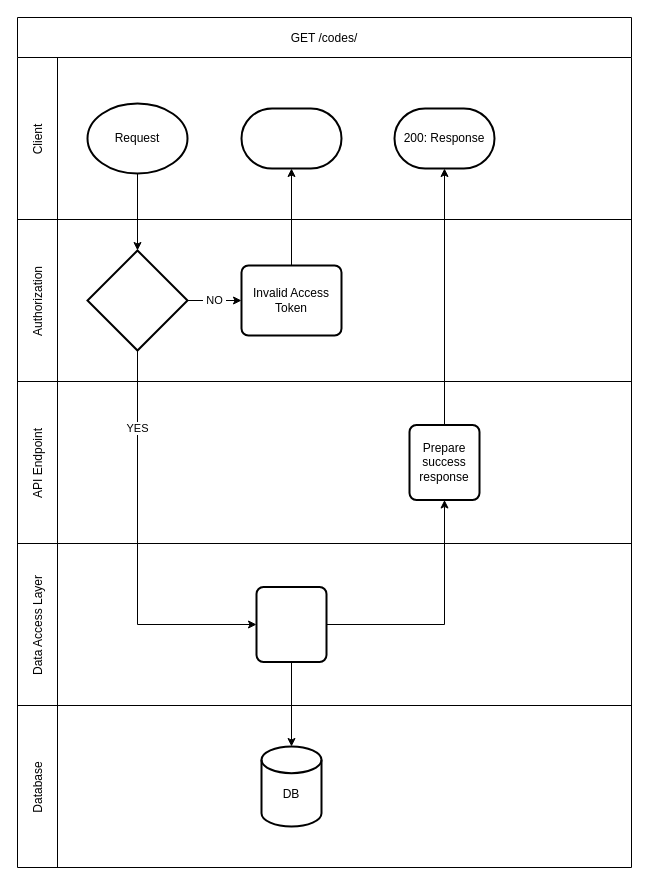
Some shapes in this 649 by 885 pixel diagram are drawn without their labels. The shapes that lost their labels are listed below. From the top down, each one's box as (x1, y1, x2, y2) in pixels, then its label:
(240, 107, 342, 169): 401: Unauthorised
(86, 249, 188, 351): Authorized?
(255, 586, 327, 662): Query Code Details
